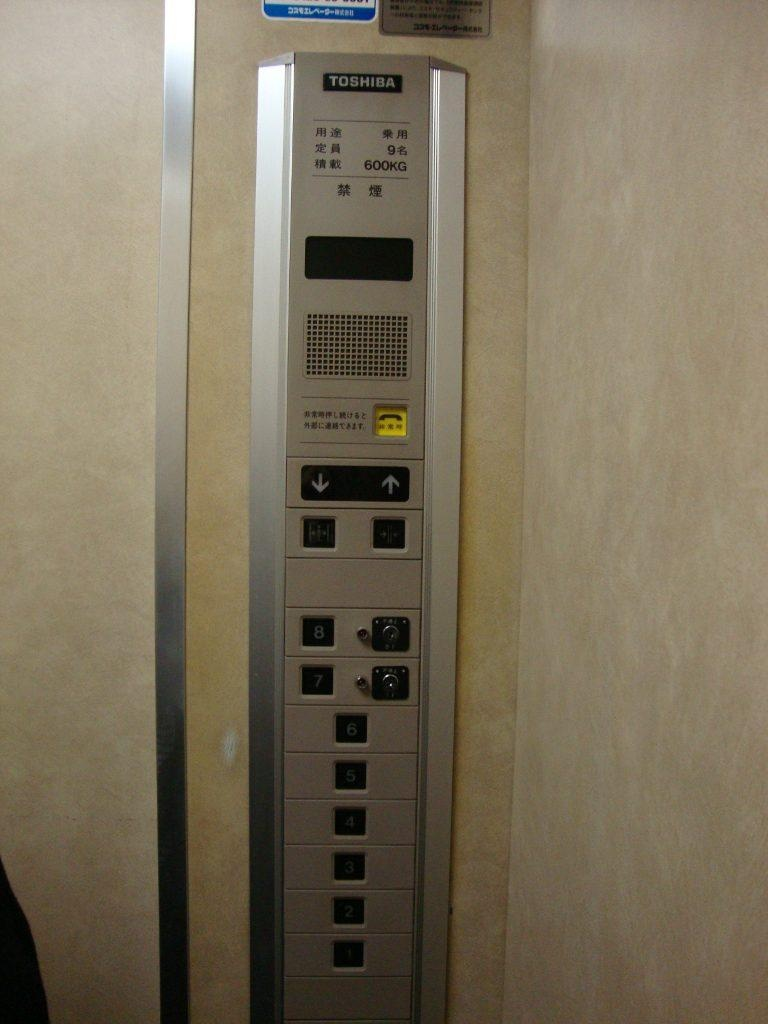1: (329, 938, 366, 970)
2: (330, 894, 366, 926)
3: (330, 849, 368, 882)
4: (331, 803, 367, 837)
5: (331, 758, 367, 791)
6: (332, 711, 369, 744)
7: (297, 662, 335, 696)
8: (299, 613, 336, 648)
bt_keyhole: (369, 614, 410, 653), (369, 664, 410, 701)
call: (370, 402, 408, 438)
close: (368, 514, 407, 551)
led: (298, 232, 416, 284)
open: (298, 514, 337, 550)
